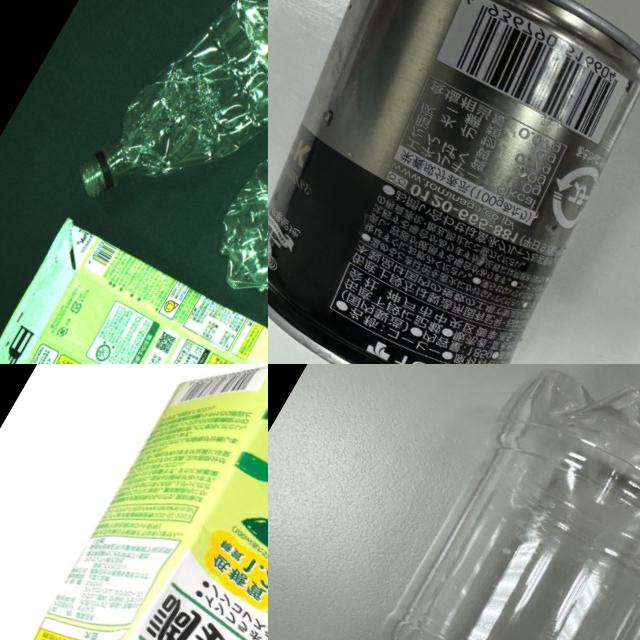Aluminium Foil: (0, 364, 268, 640), (0, 206, 268, 364)
Can: (268, 0, 640, 364)
Transparent Plastic Bottle: (278, 364, 640, 640), (67, 0, 268, 262), (192, 28, 268, 341)
